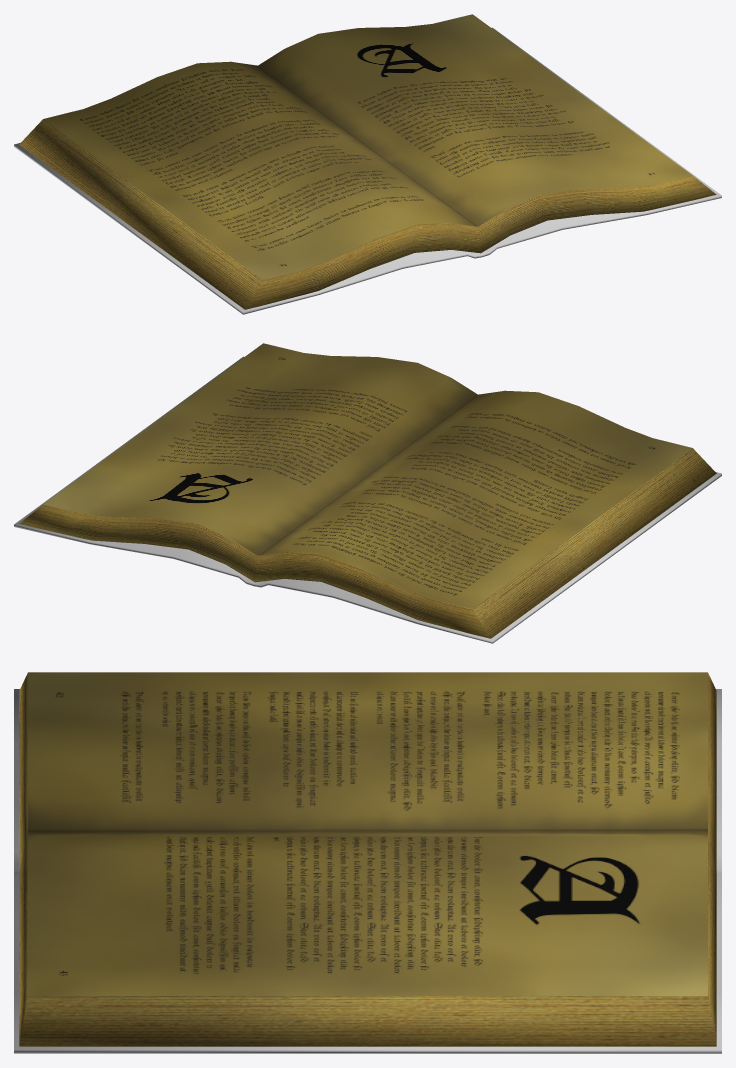
The model's file is OpenBook.fbx.
The picture shows the model from 3 angles, top to bottom: view 1: azimuth 30°, elevation 25°; view 2: azimuth 150°, elevation 25°; view 3: azimuth 270°, elevation 25°; orthographic projection. The views are drawn at different scales.
Visible parts, largest first — view 1: book.001, book_cover.001; view 2: book.001, book_cover.001; view 3: book.001, book_cover.001.
Part boxes in pixels (left/top/right/bottom): book.001: left=19, top=14, right=716, bottom=309; book_cover.001: left=14, top=27, right=721, bottom=314; book.001: left=19, top=343, right=716, bottom=638; book_cover.001: left=14, top=356, right=721, bottom=643; book.001: left=19, top=672, right=716, bottom=1046; book_cover.001: left=14, top=689, right=721, bottom=1053.
Size of the model in its own units: 203 by 17.88 by 168.
